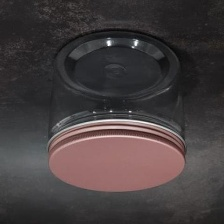plastic_box: (39, 22, 192, 197)
